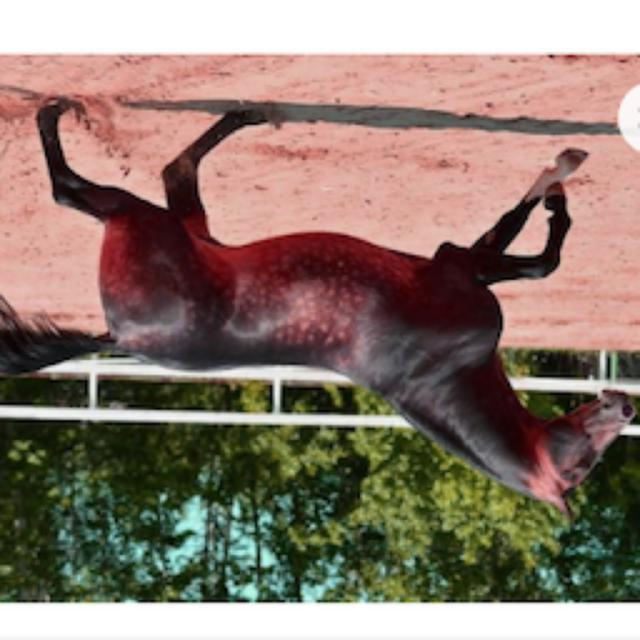Horse: (0, 95, 638, 528)
